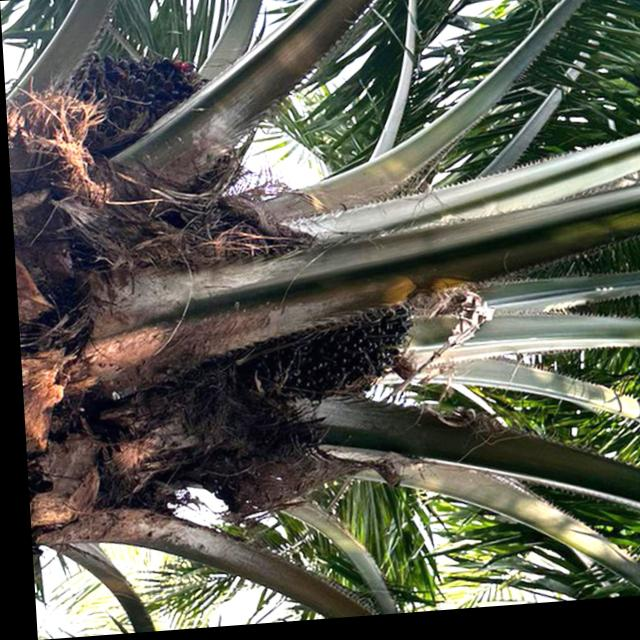ripe: (275, 309, 415, 404)
